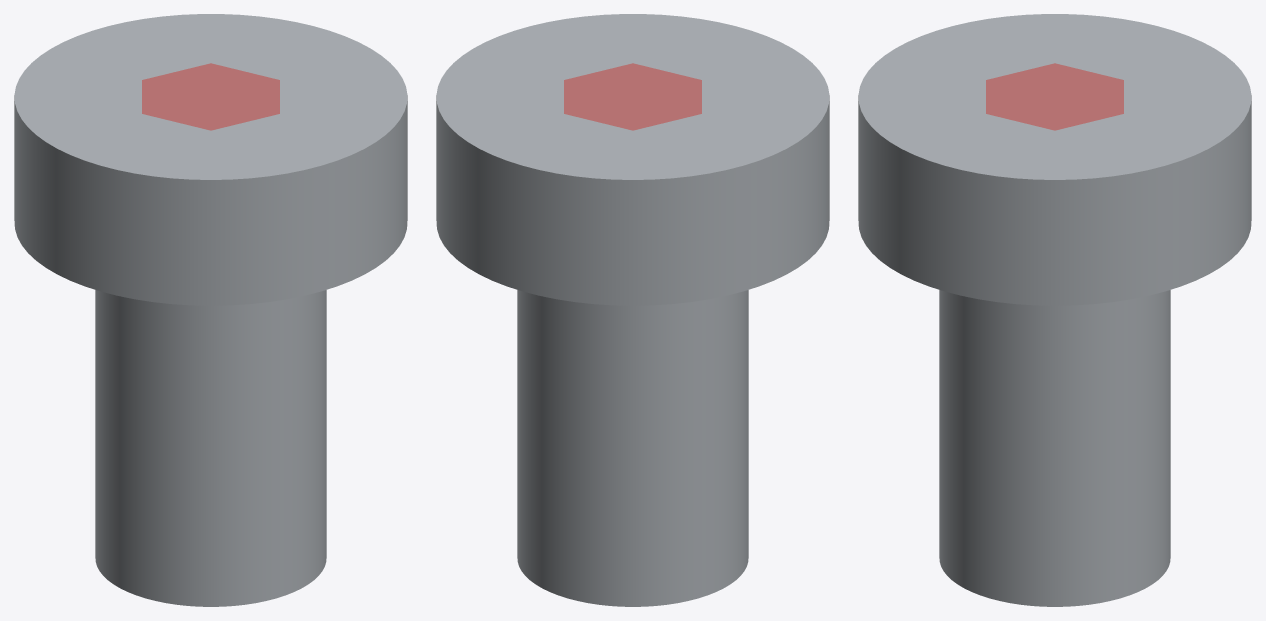
The model's file is step_03.glb.
The picture shows the model from 3 angles, left to right: view 1: azimuth 30°, elevation 25°; view 2: azimuth 150°, elevation 25°; view 3: azimuth 270°, elevation 25°; orthographic projection.
Parts seen in each view (by area): view 1: part__tamper proof bolt M10, removed__tamper proof bolt M10; view 2: part__tamper proof bolt M10, removed__tamper proof bolt M10; view 3: part__tamper proof bolt M10, removed__tamper proof bolt M10.
Boxes of the visible parts, x1,y1,x2,y2 form: part__tamper proof bolt M10: (14,14,407,606); removed__tamper proof bolt M10: (142,63,279,130); part__tamper proof bolt M10: (436,14,829,606); removed__tamper proof bolt M10: (564,63,701,130); part__tamper proof bolt M10: (858,14,1251,606); removed__tamper proof bolt M10: (986,63,1123,130).
Bounding box in the file's own units: 16.99 × 22 × 16.99.
